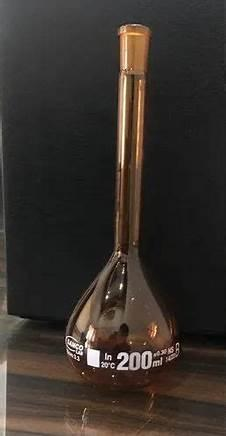Volumetric flask: (60, 31, 184, 381)
